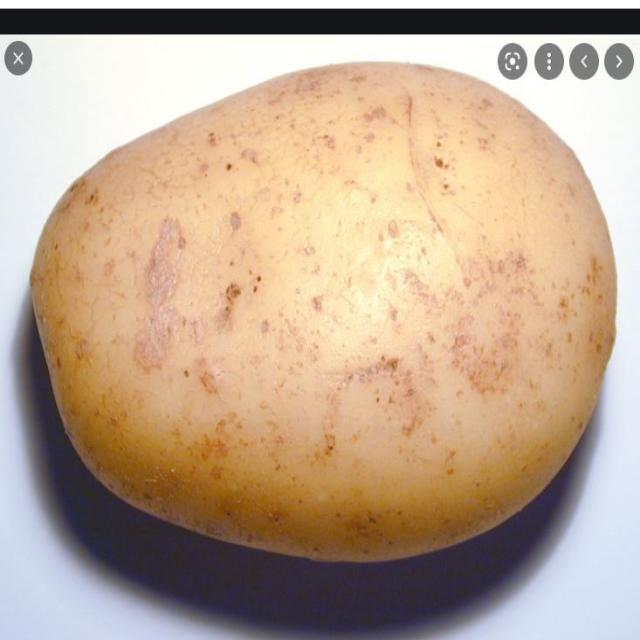potato: (29, 62, 617, 566)
